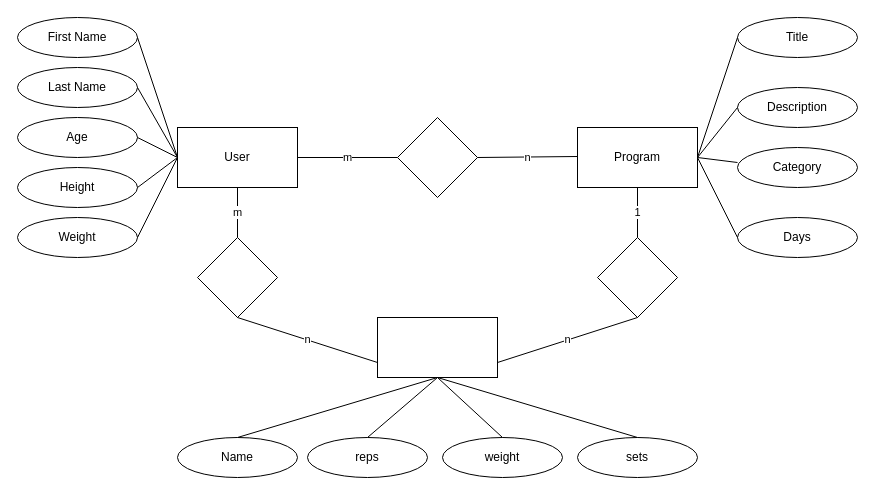
Some shapes in this 875 by 495 pixel diagram are drawn without their labels. The shapes that lost their labels are listed below. From the top down, each one's centre as x and y in pixels, then its label:
(x=437, y=157): picks
(x=237, y=277): learns
(x=637, y=277): has
(x=437, y=347): Workout
